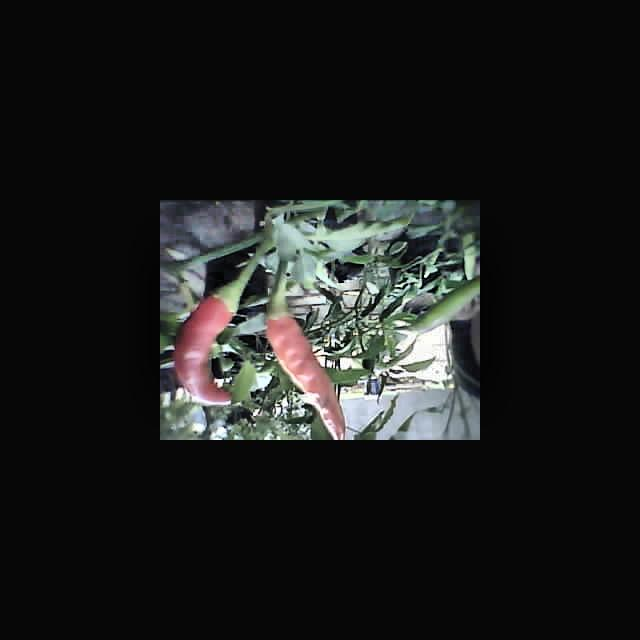Cabai: (271, 305, 360, 440), (174, 280, 252, 409)
